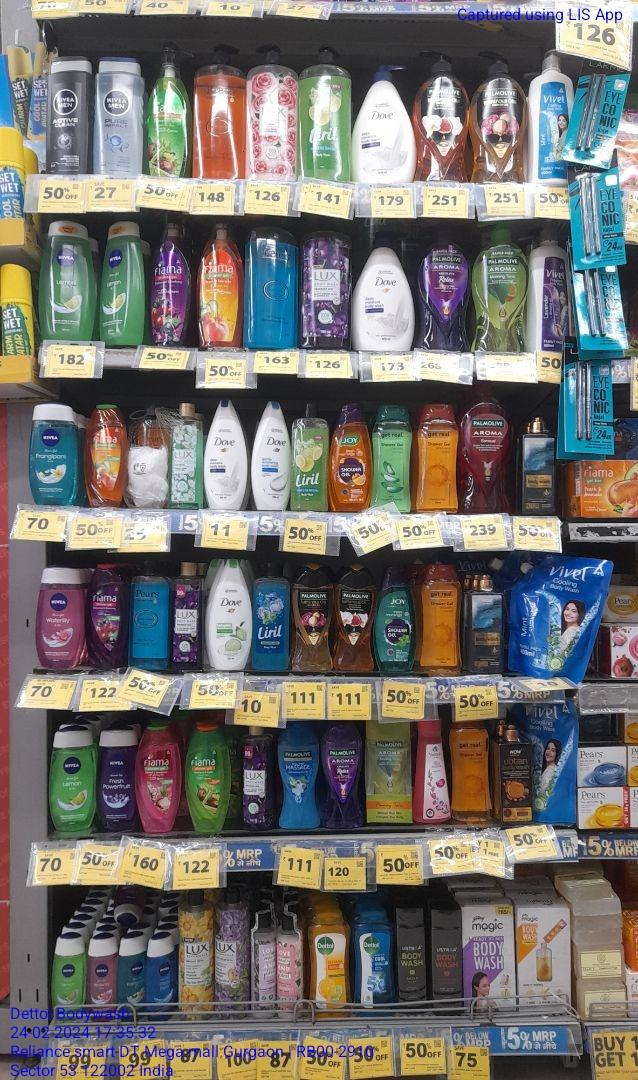Dettol_Bodywash_Cool: (356, 912, 395, 1015)
Dettol_Bodywash_Refresh: (309, 913, 352, 1017)
Dove_Deep_Moisture_Body_Wash_250ML: (206, 400, 252, 510)
Dove_Gentle_Exfoliating_Body_Wash_250ML: (254, 400, 292, 510)
Dove_Refreshing_Body_Wash_250ML: (206, 559, 251, 670)
Fiama_Shower_Gel_Lemongrass_and_Jojoba_250ML: (188, 726, 227, 833)
Fiama_Shower_Gel_Patchouli_and_Macadamia_250ML: (137, 727, 181, 833)
Fiama_Shower_Gel_Peach_and_Avocado_250ML: (87, 406, 123, 504)
Get_Real_Shower_Gel_Moisturising_Glycerin_300ML: (420, 565, 463, 677), (420, 405, 458, 512)
Joy_Shower_Gel_Mandarin_and_Lemongrass_250ML: (331, 404, 370, 510)
Joy_Shower_Gel_Mint_and_Eucalyptus_250ML: (376, 566, 414, 675)
Liril_Cooling_Mint_Body_Wash_250ML: (253, 560, 288, 670)
Liril_Lime_and_Tea_Tree_Oil_Body_Wash_250ML: (293, 403, 330, 510)
Lux_Black_Orchid_Scent_and_Juniper_Oil_Body_Wash_245ML: (242, 727, 274, 830), (174, 561, 204, 670)
Lux_Body_Wash_Skin_Detox_Freesia_Scent_and_Alove_Vera_245ML: (170, 403, 202, 510)
Nivea_Shower_Gel_Frangipani_and_Oil_250ML: (31, 405, 78, 504)
Nivea_Shower_Gel_Lemon_and_Oil_250ML: (43, 221, 95, 340), (104, 220, 143, 345), (51, 730, 95, 831)
Palmolive_Aroma_Moments_Feel_The_Massage_Shower_Gel_250ML: (278, 724, 320, 830)
Palmolive_Aroma_Relax_250ML: (322, 723, 365, 828)
Palmolive_Luminous_Oils_Invigorating_Macadamia_Oil_With_Peony_250ML: (293, 566, 331, 673)
Palmolive_Luminous_Oils_With_White_Orchid_Shower_Gel_250ML: (336, 565, 374, 671)
Pears_Pure_Glycerin_and_Mint_Extracts_Body_Wash_250ML: (130, 561, 167, 672)
